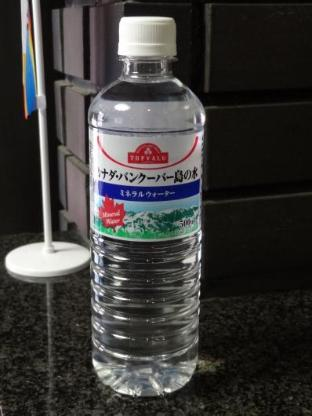Plastic Bottle: (79, 13, 207, 399)
